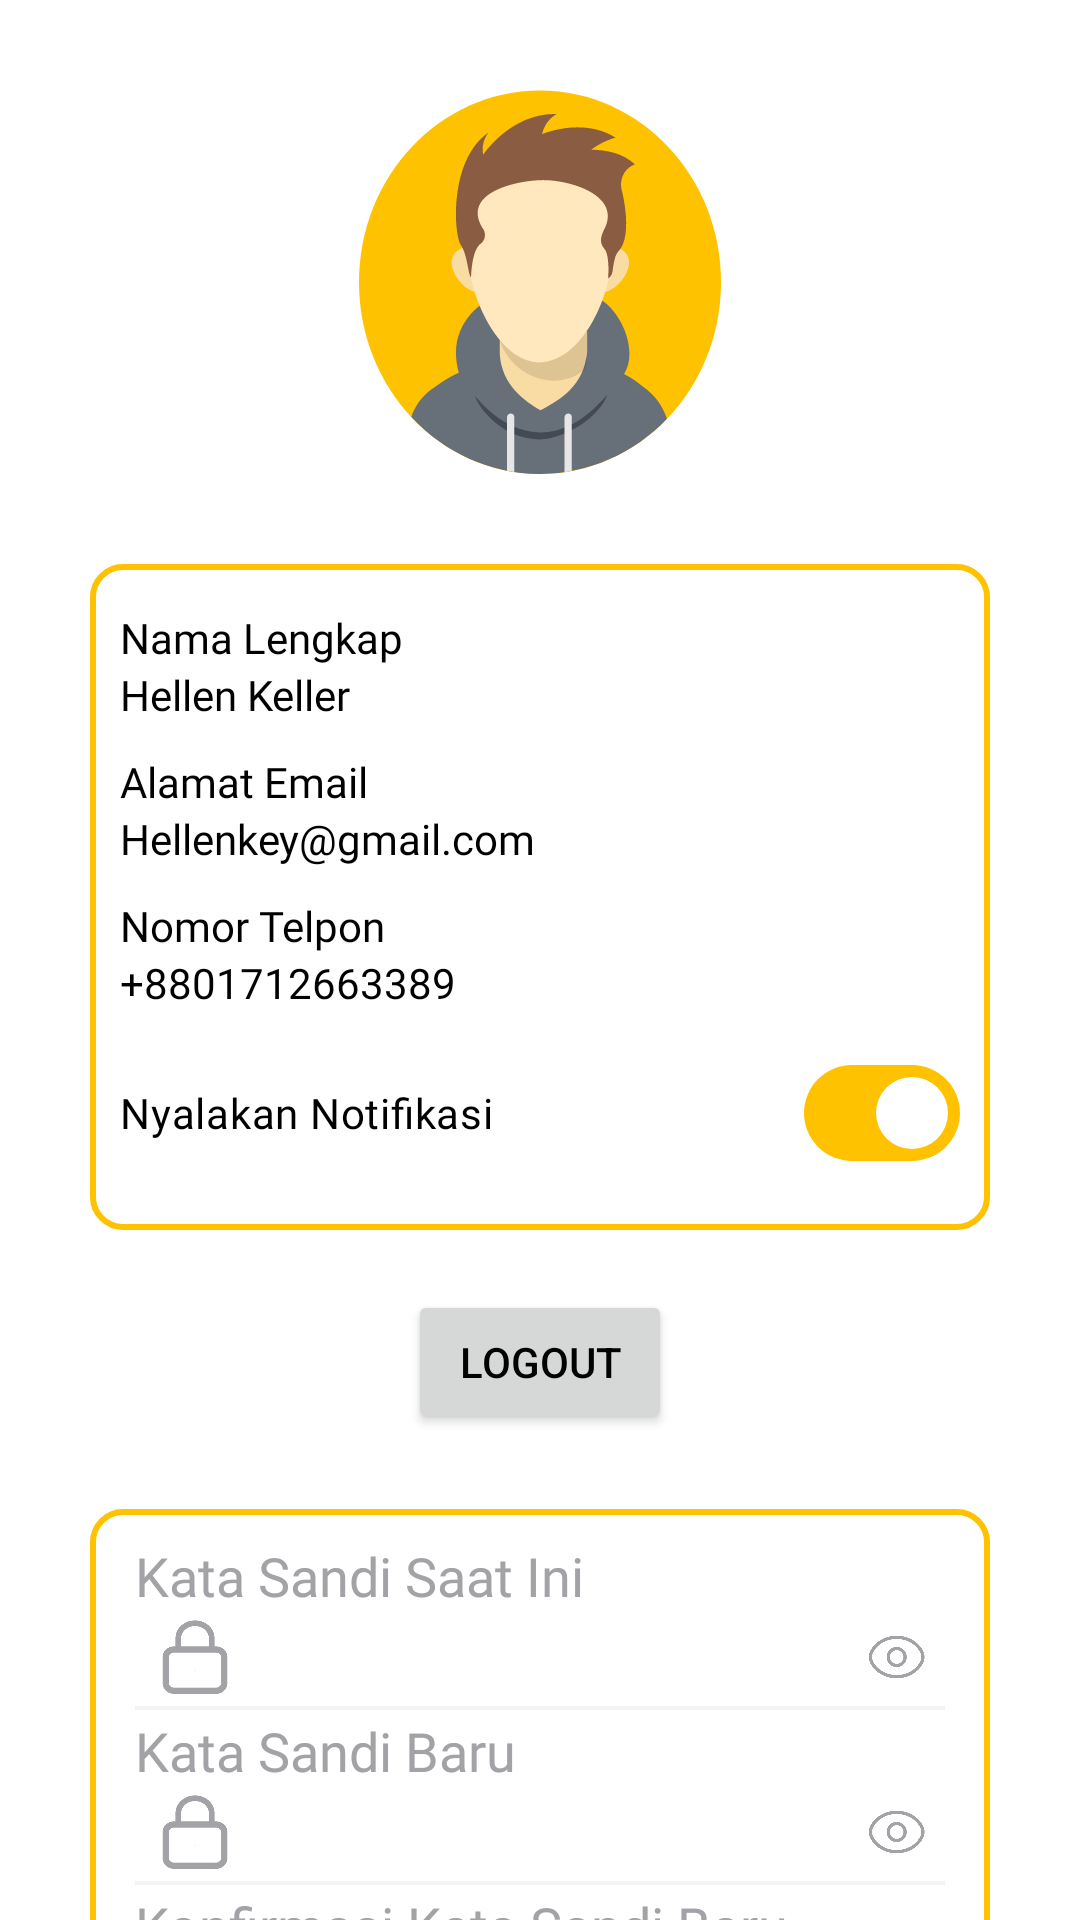

Screen size 1080 x 1920. Icon name, then its box in pixels as (x1, y1, x2, y2):
password: (163, 1620, 227, 1694), (163, 1795, 227, 1869)
show password: (869, 1636, 925, 1678), (869, 1811, 925, 1853)
